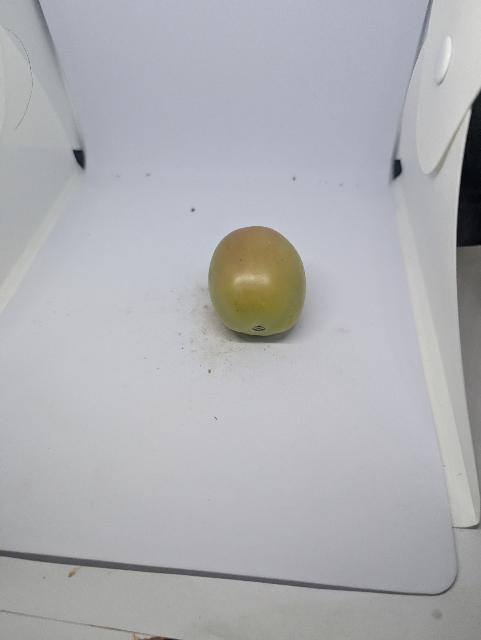breaker: (206, 226, 312, 341)
